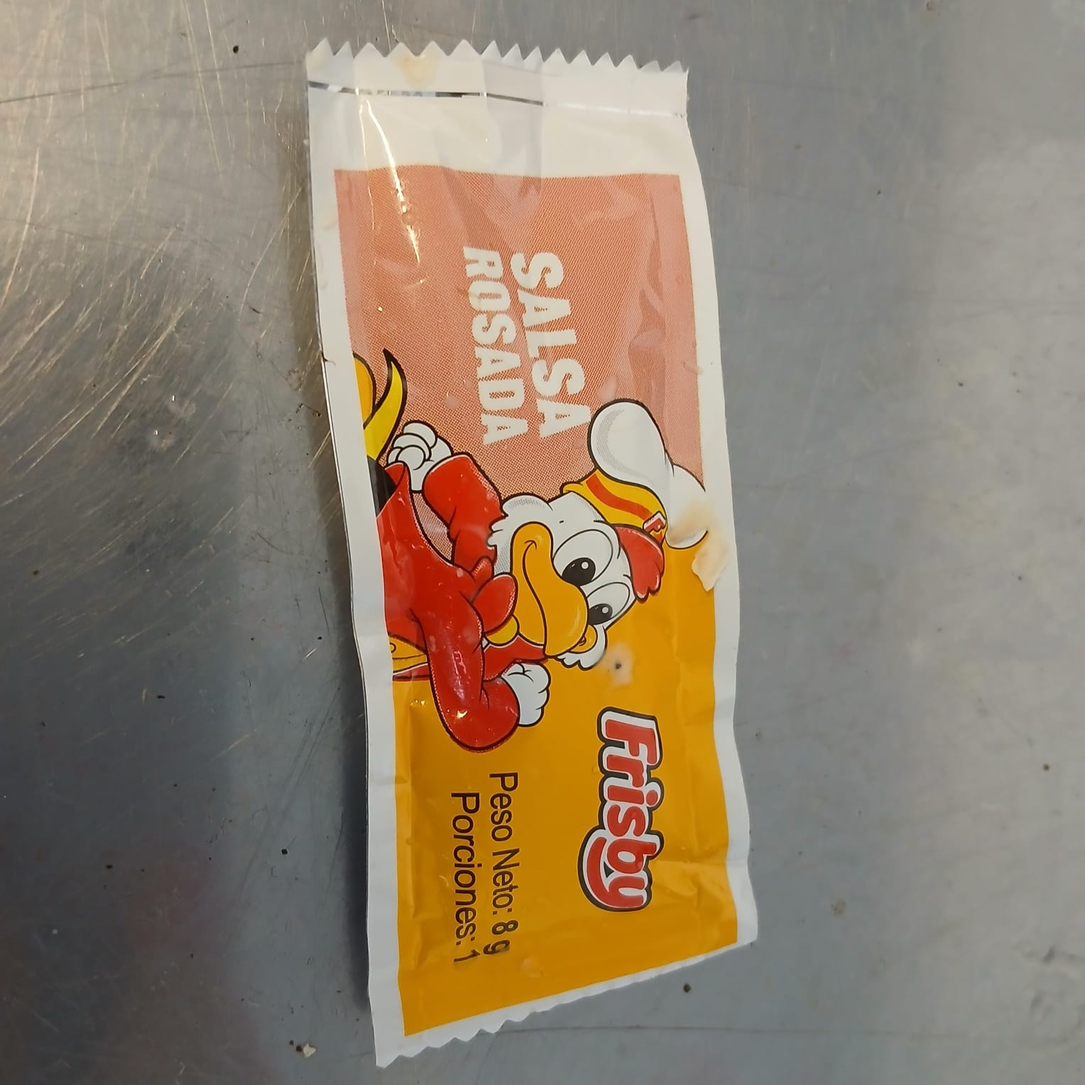Ordinario: (307, 39, 761, 1068)
